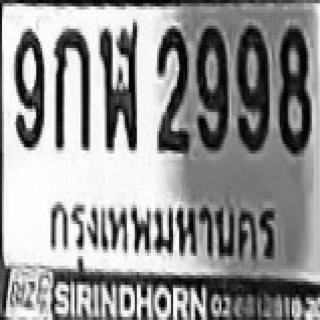A01: (52, 26, 89, 147)
A42: (99, 21, 137, 149)
N02: (155, 24, 187, 152)
N08: (278, 22, 310, 150)
N09: (235, 21, 268, 149), (195, 22, 227, 147), (12, 26, 42, 147)
P04: (44, 190, 285, 278)
